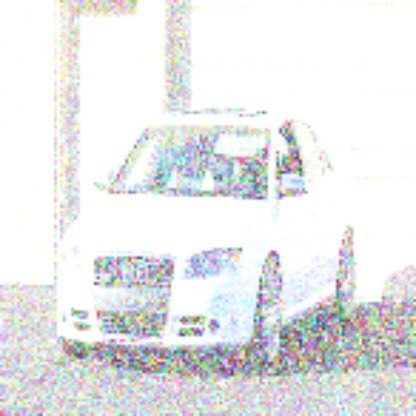Vehicle: (56, 100, 357, 368)
